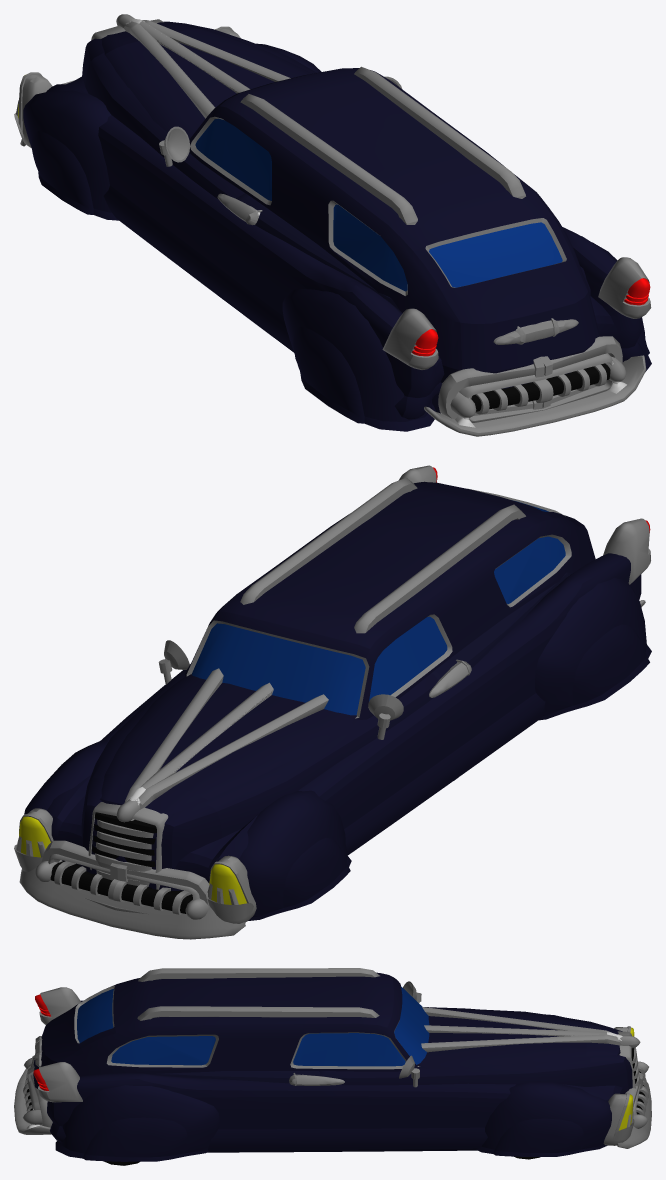
Rendered from mafioso.glb.
3 renders of one model, top to bottom at view 1: azimuth 30°, elevation 25°; view 2: azimuth 150°, elevation 25°; view 3: azimuth 270°, elevation 25°, orthographic. The views are drawn at different scales.
Visible parts, largest first — view 1: Object_12, Object_3, Object_6, Object_11, Object_7, Object_4; view 2: Object_12, Object_3, Object_6, Object_7, Object_11, Object_5; view 3: Object_12, Object_3, Object_6, Object_11, Object_4.
Part boxes in pixels (bbox=[...]): Object_12: bbox=[23, 21, 651, 431]; Object_3: bbox=[14, 14, 651, 436]; Object_6: bbox=[195, 118, 562, 291]; Object_11: bbox=[236, 193, 570, 413]; Object_7: bbox=[471, 363, 610, 411]; Object_4: bbox=[412, 278, 650, 356]; Object_12: bbox=[24, 481, 651, 920]; Object_3: bbox=[14, 465, 650, 939]; Object_6: bbox=[192, 500, 565, 715]; Object_7: bbox=[50, 812, 192, 913]; Object_11: bbox=[80, 572, 572, 890]; Object_5: bbox=[19, 816, 246, 904]; Object_12: bbox=[33, 972, 632, 1161]; Object_3: bbox=[14, 968, 651, 1148]; Object_6: bbox=[77, 986, 429, 1066]; Object_11: bbox=[41, 1036, 319, 1083]; Object_4: bbox=[33, 994, 50, 1090].
Bounding box in the file's own units: 1.46 × 0.8743 × 3.71.
